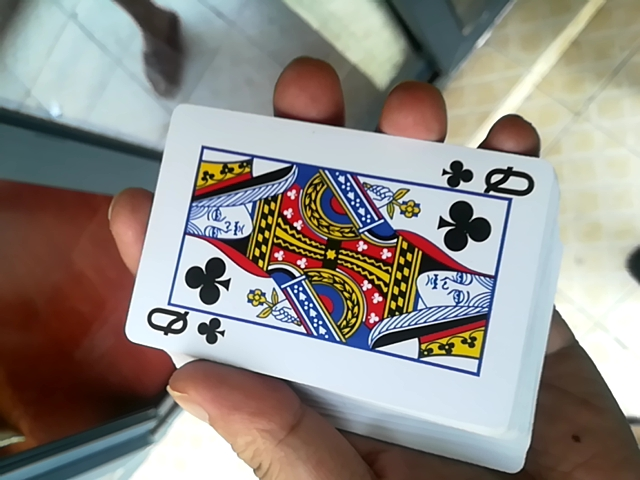mh q: (112, 110, 569, 446)
